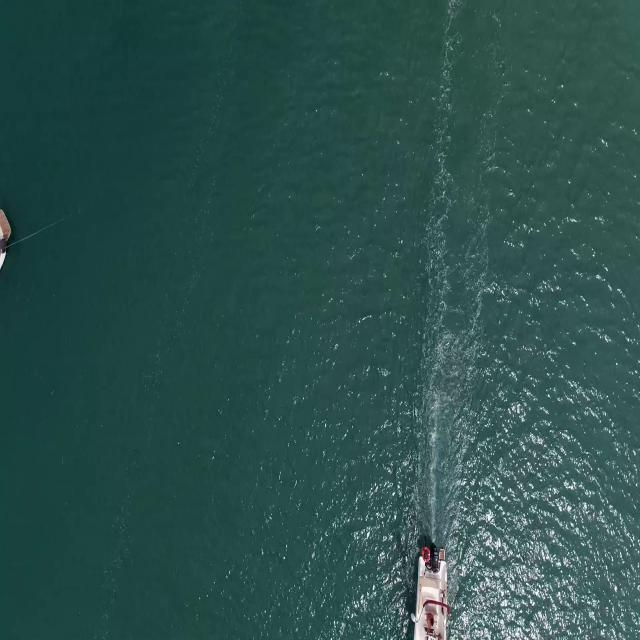boat: (410, 558, 450, 640)
life_buoy: (421, 544, 432, 563)
person: (425, 610, 435, 634)
